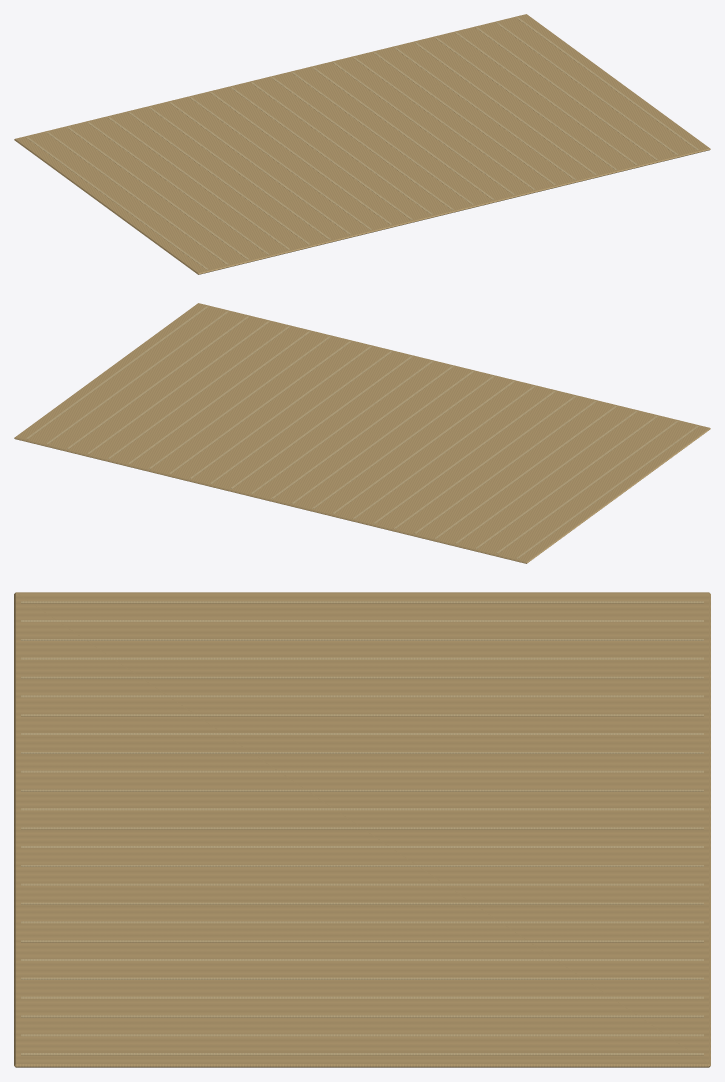
File: rug.glb
The picture shows the model from 3 angles, top to bottom: view 1: azimuth 30°, elevation 25°; view 2: azimuth 150°, elevation 25°; view 3: azimuth 270°, elevation 25°; orthographic projection. The views are drawn at different scales.
Visible parts, largest first — view 1: Large thin woven rug, Fine parallel woven stripe.011, Fine parallel woven stripe.004, Fine parallel woven stripe.013, Fine parallel woven stripe.001, Fine parallel woven stripe.006, Fine parallel woven stripe.007, Fine parallel woven stripe.009, Fine parallel woven stripe.015, Fine parallel woven stripe.018, Fine parallel woven stripe.023, Fine parallel woven stripe (+14 smaller); view 2: Large thin woven rug, Fine parallel woven stripe.011, Fine parallel woven stripe.004, Fine parallel woven stripe.013, Fine parallel woven stripe.001, Fine parallel woven stripe.006, Fine parallel woven stripe.007, Fine parallel woven stripe.009, Fine parallel woven stripe.015, Fine parallel woven stripe.018, Fine parallel woven stripe.023, Fine parallel woven stripe (+14 smaller); view 3: Large thin woven rug, Fine parallel woven stripe, Fine parallel woven stripe.003, Fine parallel woven stripe.004, Fine parallel woven stripe.005, Fine parallel woven stripe.006, Fine parallel woven stripe.009, Fine parallel woven stripe.010, Fine parallel woven stripe.011, Fine parallel woven stripe.012, Fine parallel woven stripe.015, Fine parallel woven stripe.016 (+14 smaller).
Part boxes in pixels (left/top/right/bottom): Large thin woven rug: left=14, top=14, right=710, bottom=274; Fine parallel woven stripe.011: left=250, top=82, right=433, bottom=214; Fine parallel woven stripe.004: left=108, top=117, right=290, bottom=249; Fine parallel woven stripe.013: left=291, top=72, right=473, bottom=204; Fine parallel woven stripe.001: left=46, top=132, right=228, bottom=264; Fine parallel woven stripe.006: left=148, top=107, right=330, bottom=239; Fine parallel woven stripe.007: left=169, top=102, right=351, bottom=234; Fine parallel woven stripe.009: left=210, top=92, right=392, bottom=224; Fine parallel woven stripe.015: left=332, top=62, right=514, bottom=194; Fine parallel woven stripe.018: left=394, top=47, right=576, bottom=179; Fine parallel woven stripe.023: left=496, top=22, right=678, bottom=154; Fine parallel woven stripe: left=26, top=137, right=208, bottom=269; Large thin woven rug: left=14, top=303, right=710, bottom=563; Fine parallel woven stripe.011: left=291, top=371, right=474, bottom=503; Fine parallel woven stripe.004: left=434, top=406, right=616, bottom=538; Fine parallel woven stripe.013: left=251, top=361, right=433, bottom=493; Fine parallel woven stripe.001: left=496, top=421, right=678, bottom=553; Fine parallel woven stripe.006: left=394, top=396, right=576, bottom=528; Fine parallel woven stripe.007: left=373, top=391, right=555, bottom=523; Fine parallel woven stripe.009: left=332, top=381, right=514, bottom=513; Fine parallel woven stripe.015: left=210, top=351, right=392, bottom=483; Fine parallel woven stripe.018: left=148, top=336, right=330, bottom=468; Fine parallel woven stripe.023: left=46, top=311, right=228, bottom=443; Fine parallel woven stripe: left=516, top=426, right=698, bottom=558; Large thin woven rug: left=14, top=592, right=710, bottom=1067; Fine parallel woven stripe: left=21, top=601, right=703, bottom=603; Fine parallel woven stripe.003: left=21, top=657, right=703, bottom=659; Fine parallel woven stripe.004: left=21, top=676, right=703, bottom=678; Fine parallel woven stripe.005: left=21, top=695, right=703, bottom=697; Fine parallel woven stripe.006: left=21, top=714, right=703, bottom=716; Fine parallel woven stripe.009: left=21, top=770, right=703, bottom=772; Fine parallel woven stripe.010: left=21, top=789, right=703, bottom=791; Fine parallel woven stripe.011: left=21, top=808, right=703, bottom=810; Fine parallel woven stripe.012: left=21, top=827, right=703, bottom=829; Fine parallel woven stripe.015: left=21, top=883, right=703, bottom=885; Fine parallel woven stripe.016: left=21, top=902, right=703, bottom=904.
Bounding box in the file's own units: 4.9 × 0.017 × 3.05.
Materials: 2 (2 with a texture image).
